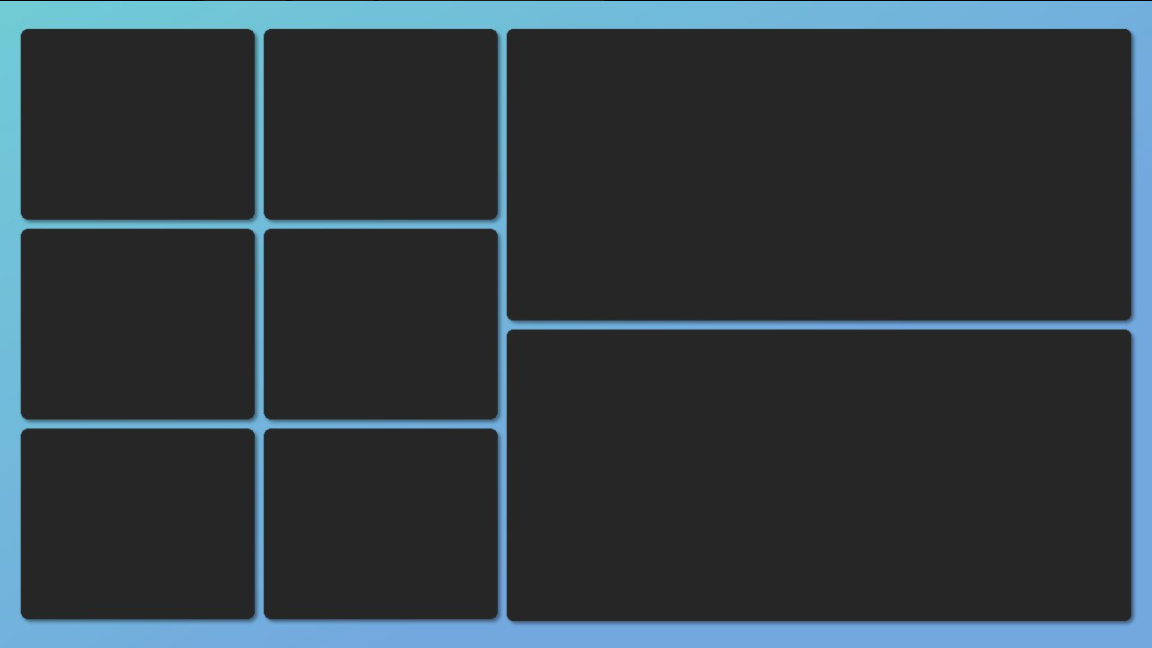

The page's visual inventory and layout, read from the dashboard file:
{"tool":"powerbi","page":{"name":"Revenue_Overviews ","canvas":[1280,720],"ordinal":0},"visuals":[{"type":"cardVisual","fields":{"Data":["_measures.Total Revenue"]},"box":[103.1,106.2,233,193.8],"z":0},{"type":"cardVisual","fields":{"Data":["_measures.Total Gross Profit"]},"box":[103.1,306.2,233,189.7],"z":1000},{"type":"cardVisual","fields":{"Data":["_Margin n Ratio.Gross Margin %"]},"box":[345.4,106.2,237.1,193.8],"z":2000},{"type":"cardVisual","fields":{"Data":["_Time_int.YoY Growth %"]},"box":[345.4,306.2,237.1,189.7],"z":3000},{"type":"lineChart","fields":{"Y":["_measures.Total Revenue"],"Category":["Date_Table.Year"]},"box":[588.7,406.2,639.2,294.8],"z":4000},{"type":"clusteredColumnChart","fields":{"Y":["Sum(Sales_Transactions.Net_Revenue)"],"Category":["Products.Product_Name"]},"box":[587.6,106.2,640.2,290.7],"z":5000},{"type":"advancedSlicerVisual","fields":{"Values":["Date_Table.Year"]},"box":[345.4,505.2,237.1,194.8],"z":6000},{"type":"advancedSlicerVisual","fields":{"Values":["Customers.Region"],"Label":["Min(Customers.Region)"]},"box":[103.1,505.2,233,194.8],"z":7000}]}

Visuals, with their boxes in screenshot pixels (x1, y1, x2, y2), scaled from the page's 1280x720 canvas onto the 1152x648 screenshot:
cardVisual - _measures.Total Revenue: [93,96,302,270]
cardVisual - _measures.Total Gross Profit: [93,276,302,446]
cardVisual - _Margin n Ratio.Gross Margin %: [311,96,524,270]
cardVisual - _Time_int.YoY Growth %: [311,276,524,446]
lineChart - _measures.Total Revenue x Date_Table.Year: [530,366,1105,631]
clusteredColumnChart - Sum(Sales_Transactions.Net_Revenue) x Products.Product_Name: [529,96,1105,357]
advancedSlicerVisual - Date_Table.Year: [311,455,524,630]
advancedSlicerVisual - Customers.Region x Min(Customers.Region): [93,455,302,630]
